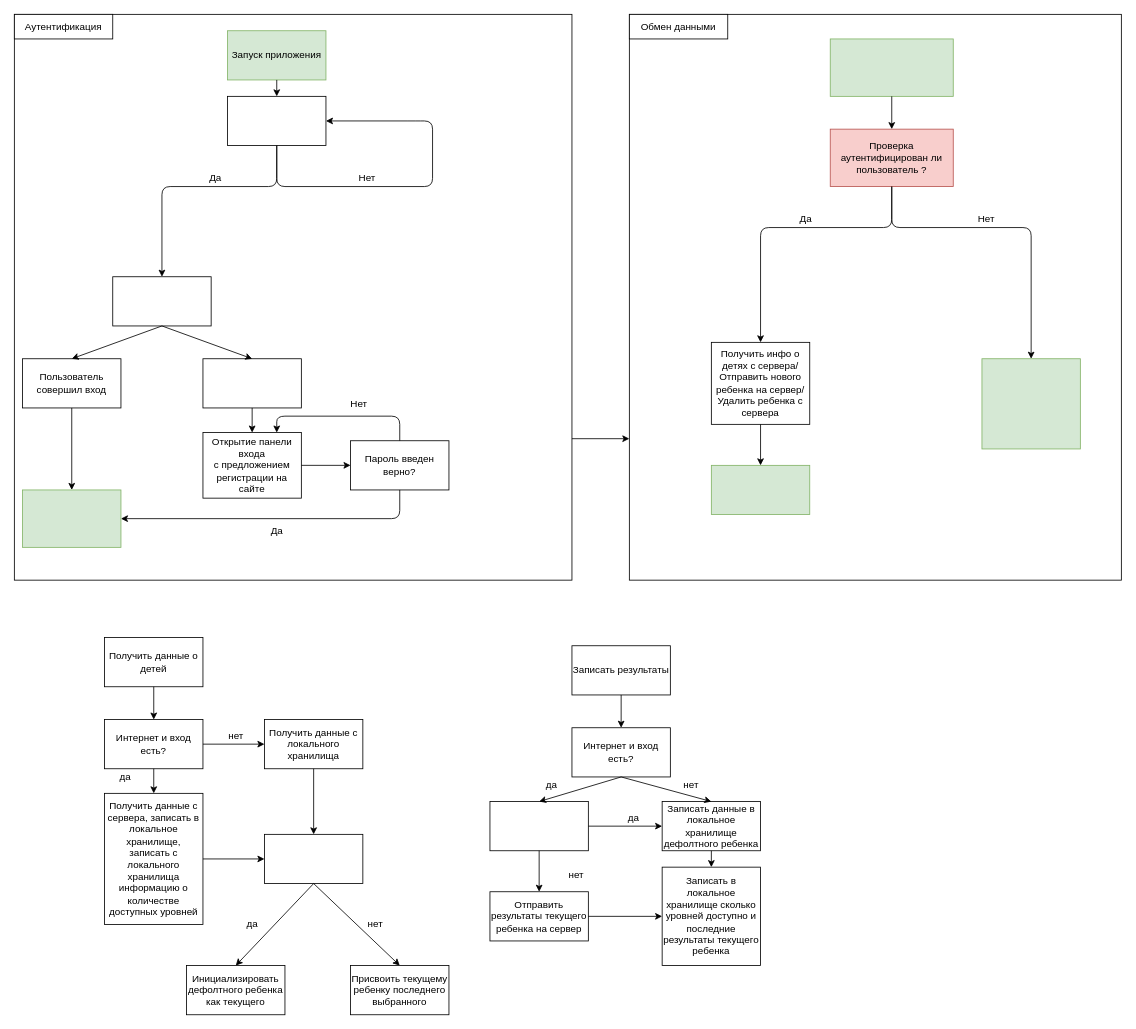
This 1136x1029 diagram has some shape labels left out. The box of each missing label's shape, as (x1, y1, x2, y2) in pixels:
Данные пустые?: (264, 834, 363, 884)
Есть интернет соединение?: (227, 96, 326, 146)
Запрос на получение данных о детях или добавление/удаление данных ребенка: (829, 38, 953, 96)
Обновить данные в локальном хранилище: (711, 465, 810, 515)
Отправка запроса на получение данных о ребенке с сервера: (22, 489, 121, 547)
Получить инфо с локального хранилища / Обновить данные в лкальном хранилище: (981, 358, 1080, 449)
Пользователь не совершил вход: (202, 358, 301, 408)
Проверка логина: (112, 276, 211, 326)
Текущий ребенок дефолтный?: (489, 801, 588, 851)
